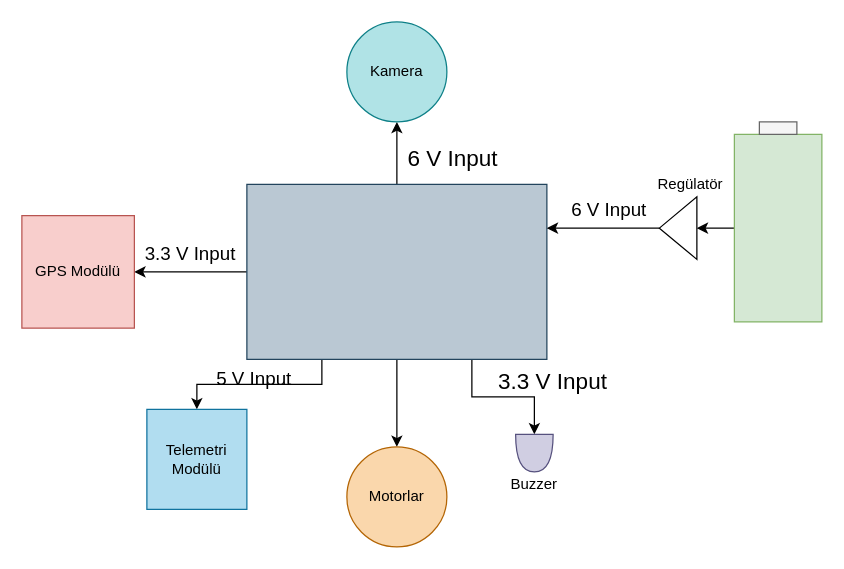
Some shapes in this 844 by 569 pixel diagram are drawn without their labels. The box of each missing label's shape, as (x1, y1, x2, y2) in pixels:
LiPo Pil: (733, 133, 822, 322)
PIXHAWK PX4: (246, 183, 547, 359)
